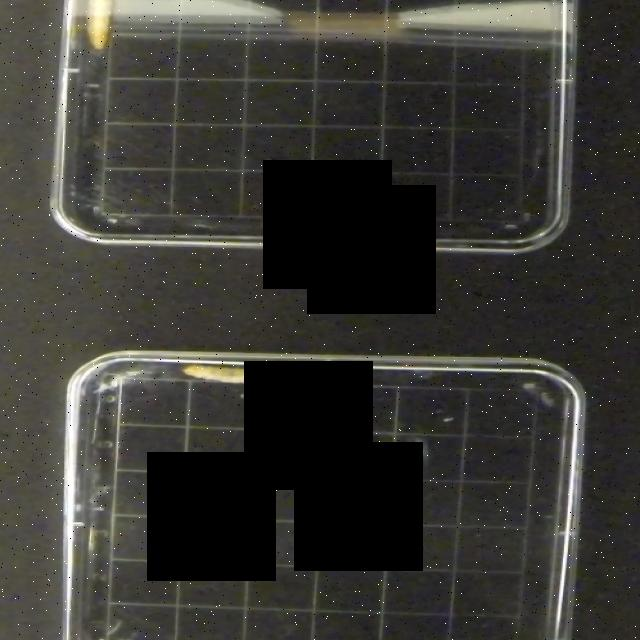larva: (178, 363, 310, 385), (78, 0, 118, 50)
